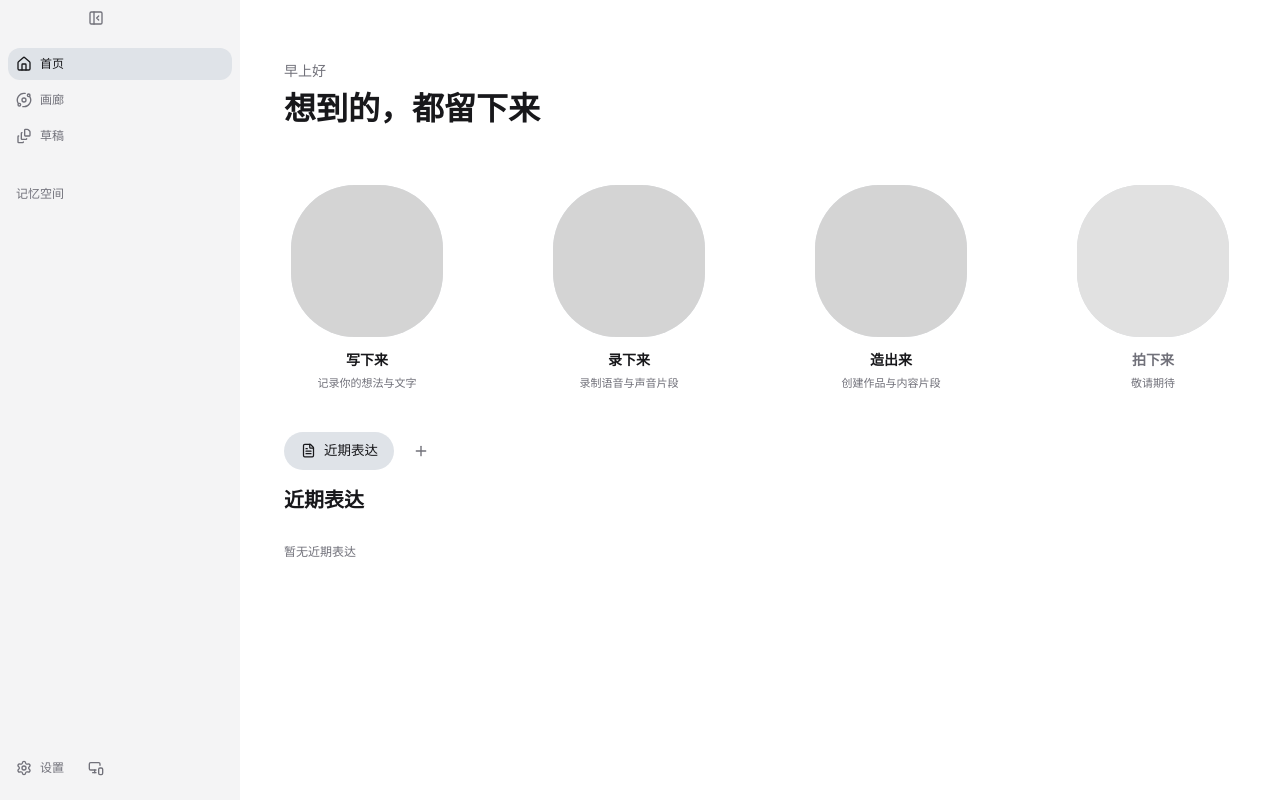
Test: App › keeps Home as the foreground surface when a Home Draft Note is closed without saving
Click the button "写下来 记录你的想法与文字".
click(367, 288)  # box [280,185,454,392]
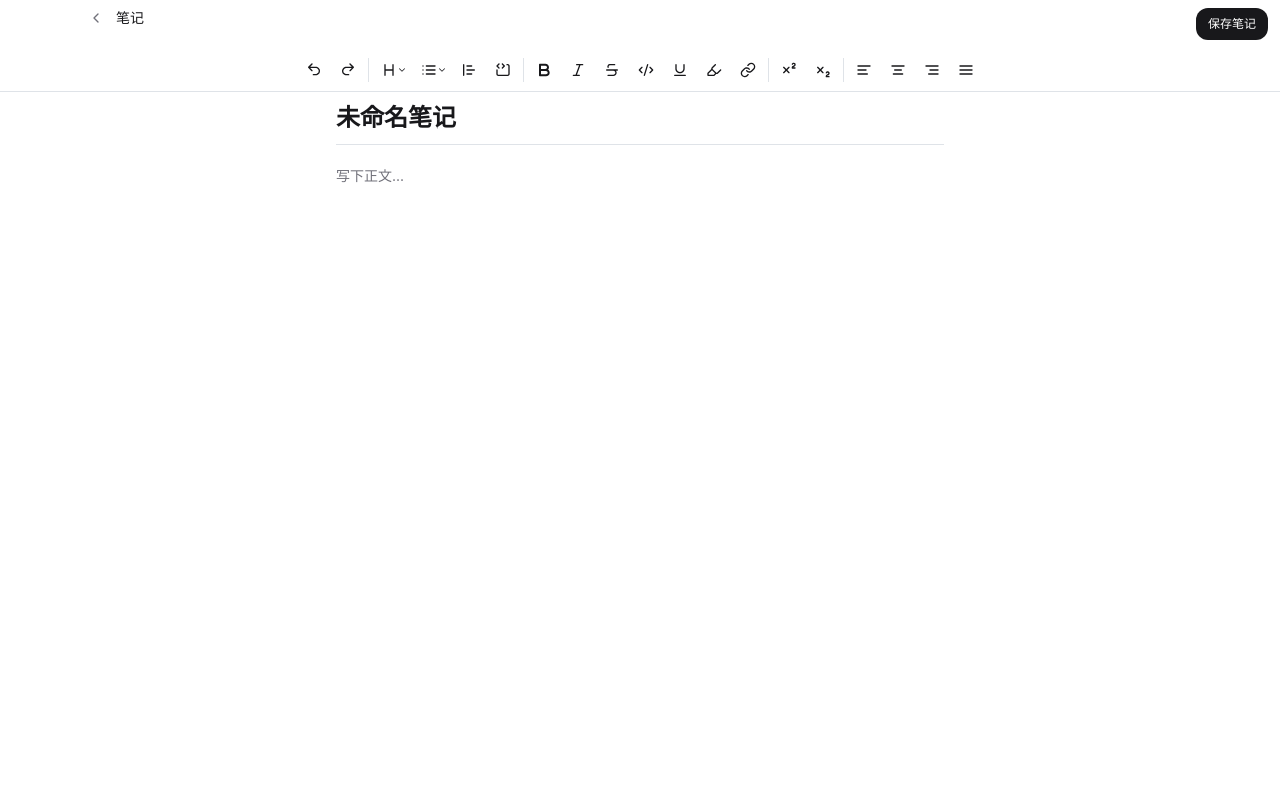
Click the button named "返回".
click(96, 18)  # box [80,2,112,34]
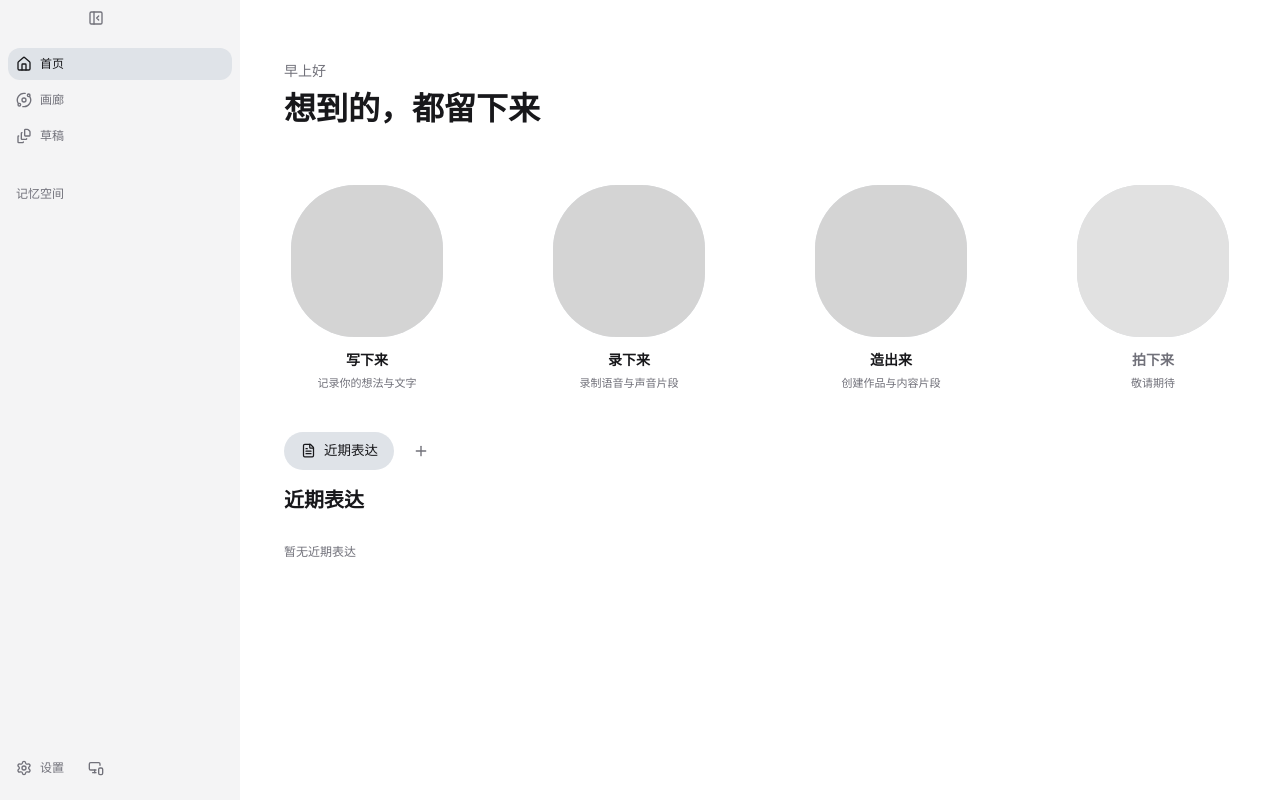
Check: the heading "笔记" is gone
